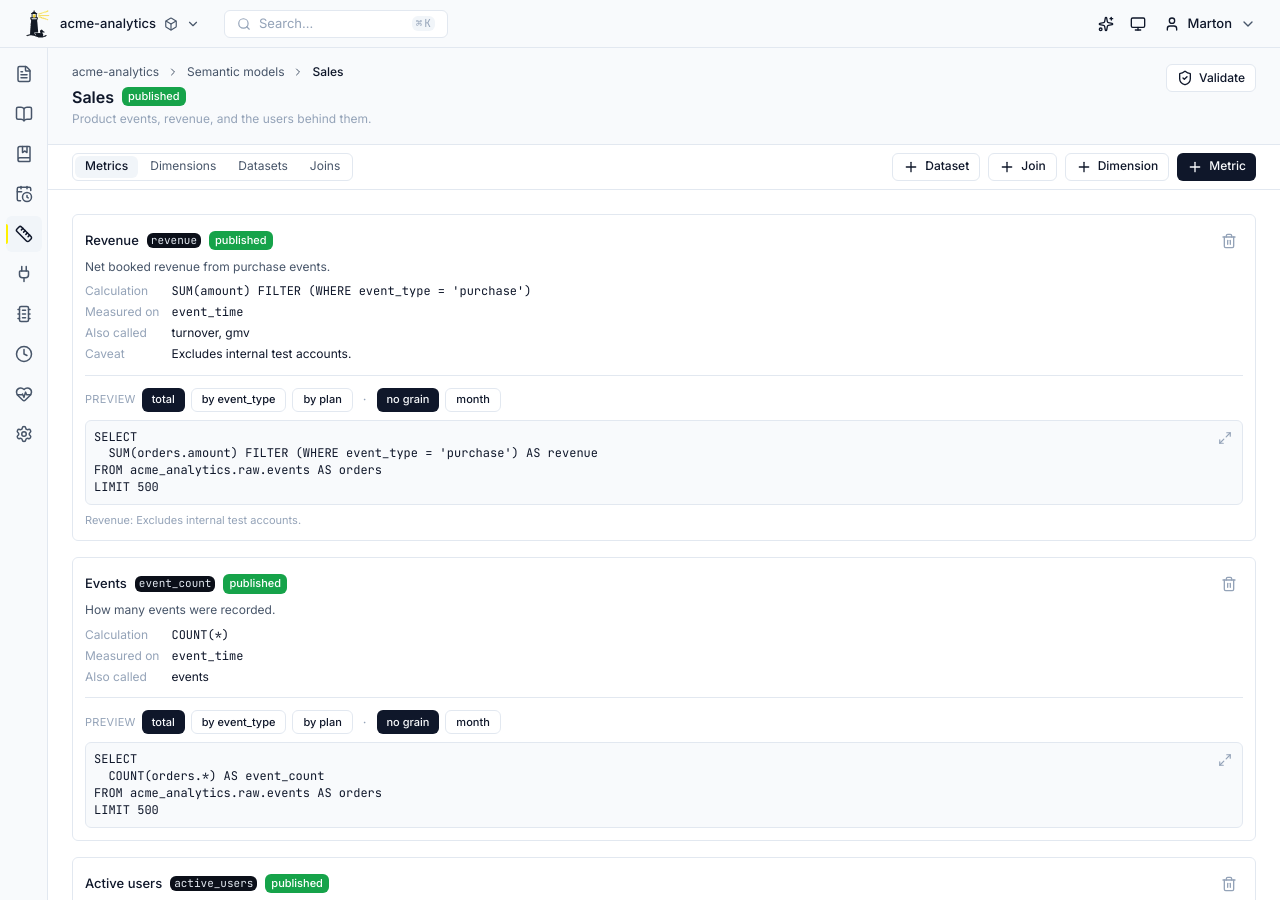
Test: removing a definition › surfaces the server's refusal naming what still binds a dataset
Click the tab "Datasets". click: x=263, y=167
box: [228,156,298,178]
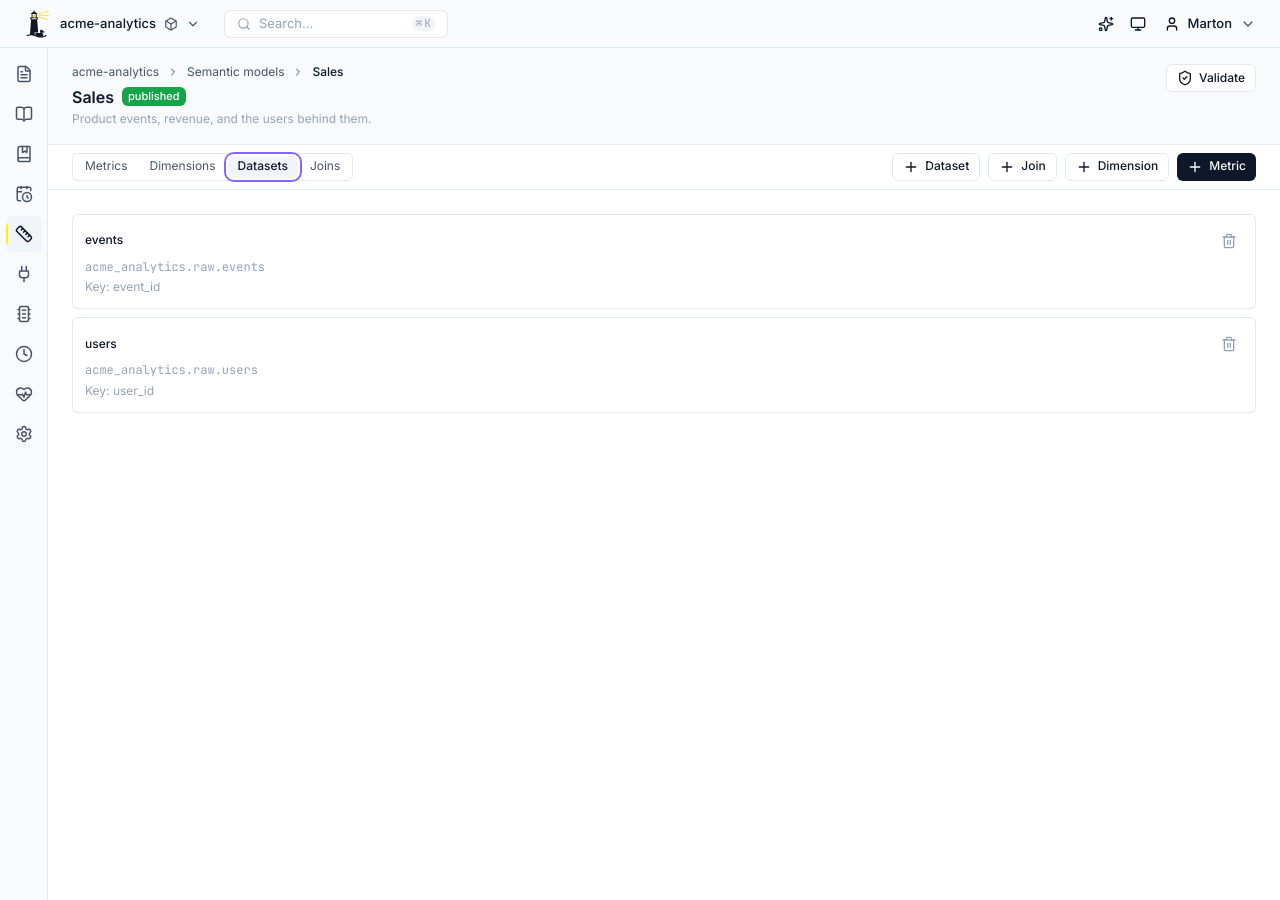
Click the button named "remove dataset events". click: x=1229, y=241
box: [1215,227,1243,255]
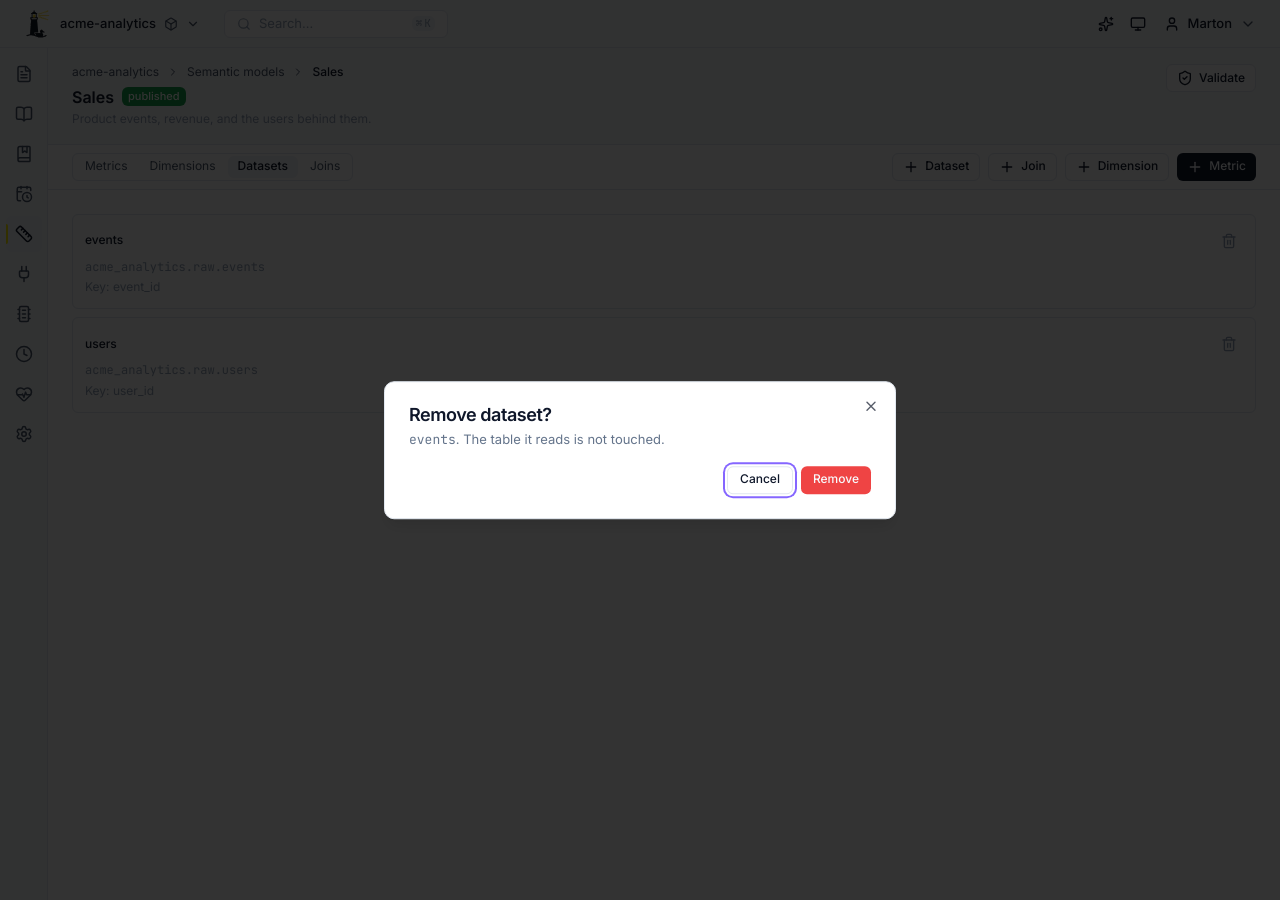
Click the button "Remove". click: x=836, y=480
box: [801,466,871,494]
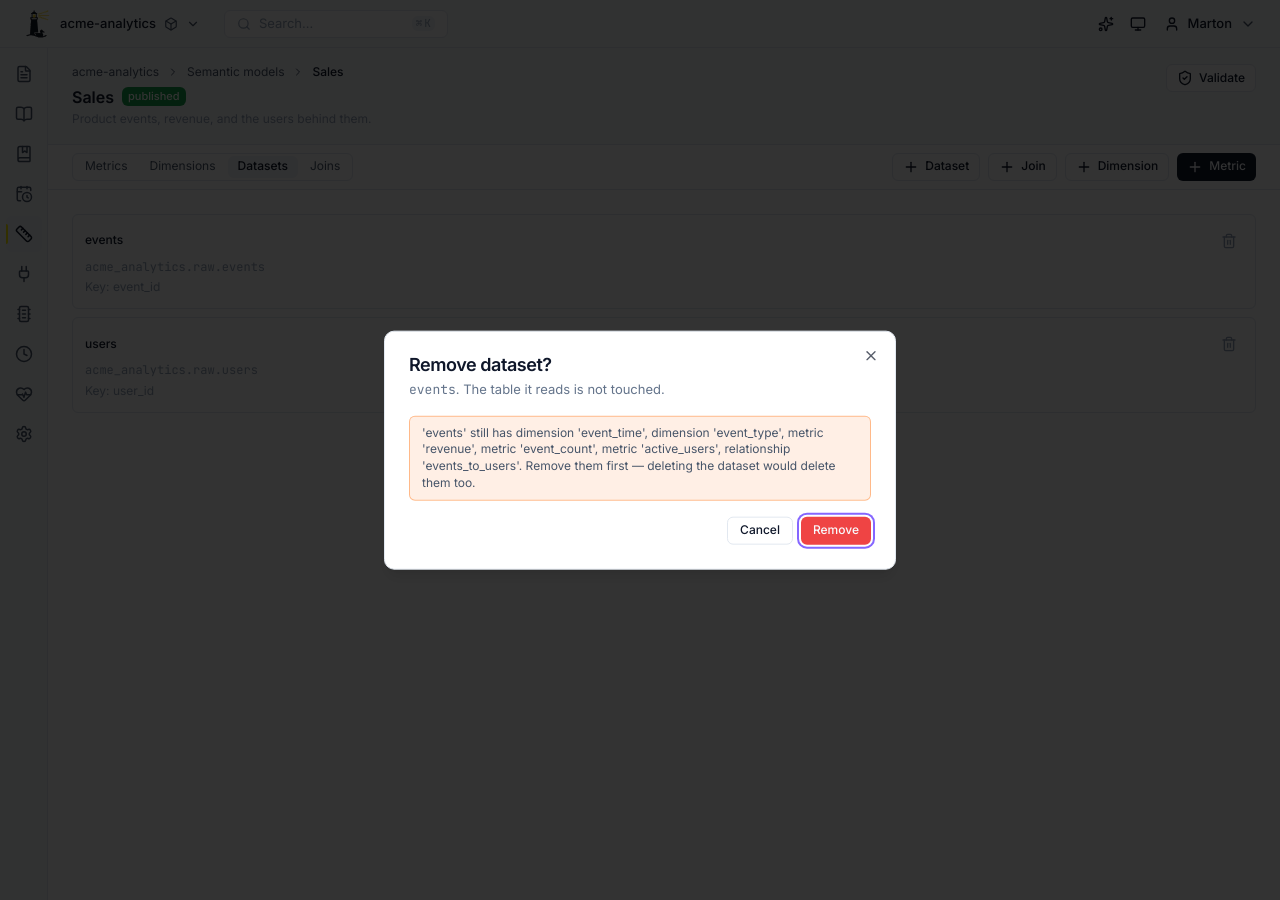
Check: the text "metric 'revenue'" is shown, box [422,424,836,490]
